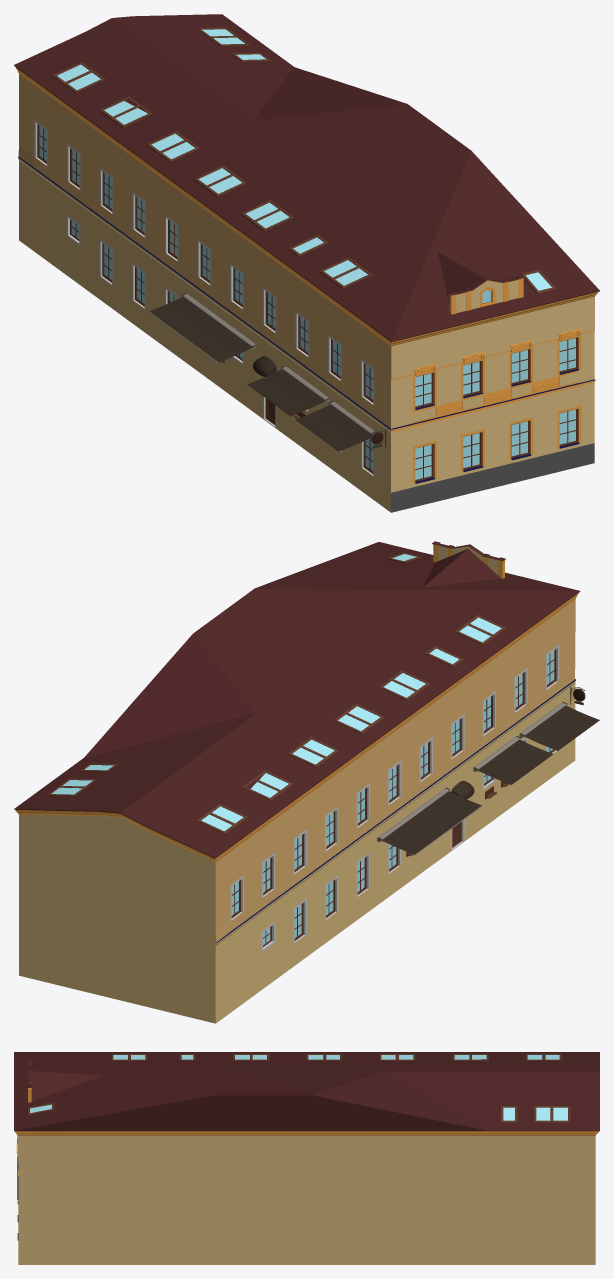
File: UZlodejky.glb
3 renders of one model, top to bottom at view 1: azimuth 30°, elevation 25°; view 2: azimuth 150°, elevation 25°; view 3: azimuth 270°, elevation 25°, orthographic. The views are drawn at different scales.
Parts seen in each view (by area): view 1: Cube, Cube.002, Cube.006, Cube.001, Cube.008; view 2: Cube, Cube.002, Cube.006, Cube.008, Cube.001; view 3: Cube.
Part boxes in pixels (x1,y1,x2,y2): Cube: (14, 14, 599, 512); Cube.002: (148, 293, 375, 451); Cube.006: (37, 124, 373, 402); Cube.001: (448, 275, 524, 314); Cube.008: (102, 243, 373, 473); Cube: (14, 542, 580, 1023); Cube.002: (377, 702, 599, 855); Cube.006: (231, 649, 556, 918); Cube.008: (294, 741, 555, 940); Cube.001: (432, 541, 505, 578); Cube: (14, 1052, 599, 1264).
Bounding box in the file's own units: 10.29 × 8.84 × 27.51.
